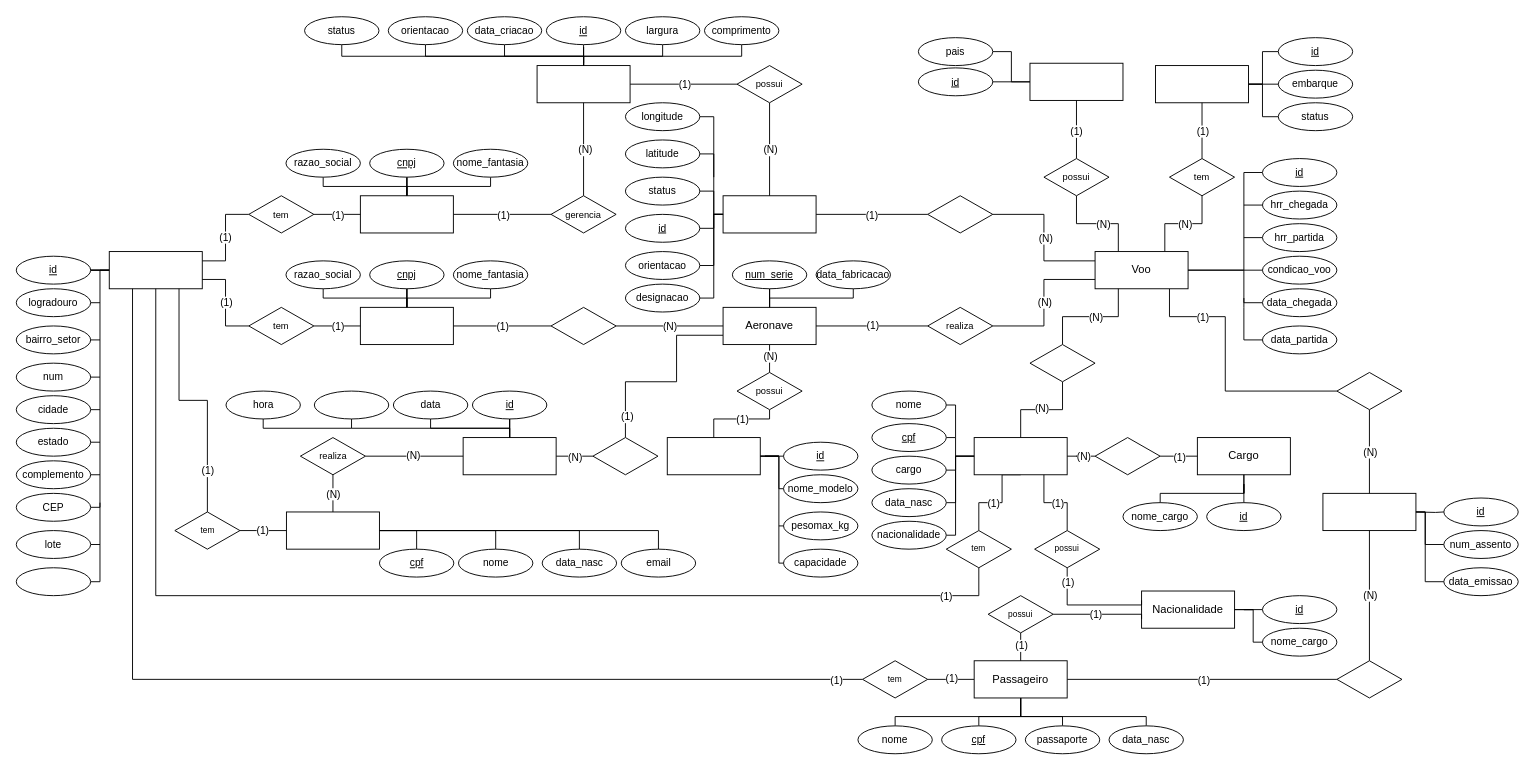
Image size: 1535x770. Some labels were removed from this diagram. The box of each missing label's shape, as (x1, y1, x2, y2) in pixels:
Aeroporto: (359, 195, 453, 233)
Cabeceira: (722, 195, 816, 233)
Companhia: (359, 306, 453, 345)
Endereco: (108, 251, 202, 289)
fornece: (550, 306, 616, 345)
Inspecao: (462, 437, 556, 475)
Mecanico: (286, 511, 379, 549)
Modelo: (666, 437, 760, 475)
observacoes: (313, 390, 389, 419)
obtem: (1336, 660, 1402, 698)
ocupa: (1094, 437, 1160, 475)
PaisDestino: (1029, 62, 1123, 100)
Passagem: (1322, 492, 1416, 531)
Pista: (536, 65, 630, 103)
Portao: (1155, 65, 1249, 103)
quadra: (15, 567, 91, 596)
reserva: (1336, 372, 1402, 410)
sofre: (592, 437, 658, 475)
tripulado: (1029, 344, 1095, 382)
Tripulante: (973, 437, 1067, 475)
usa: (927, 195, 993, 233)
